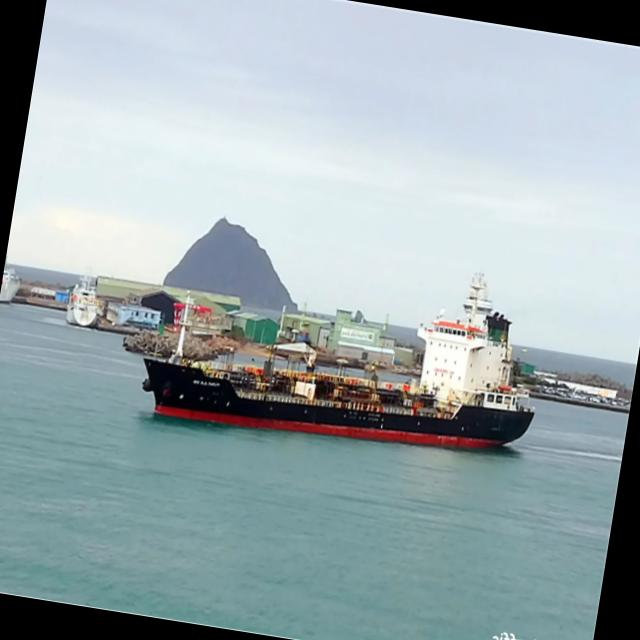Tanker: (143, 275, 534, 448)
